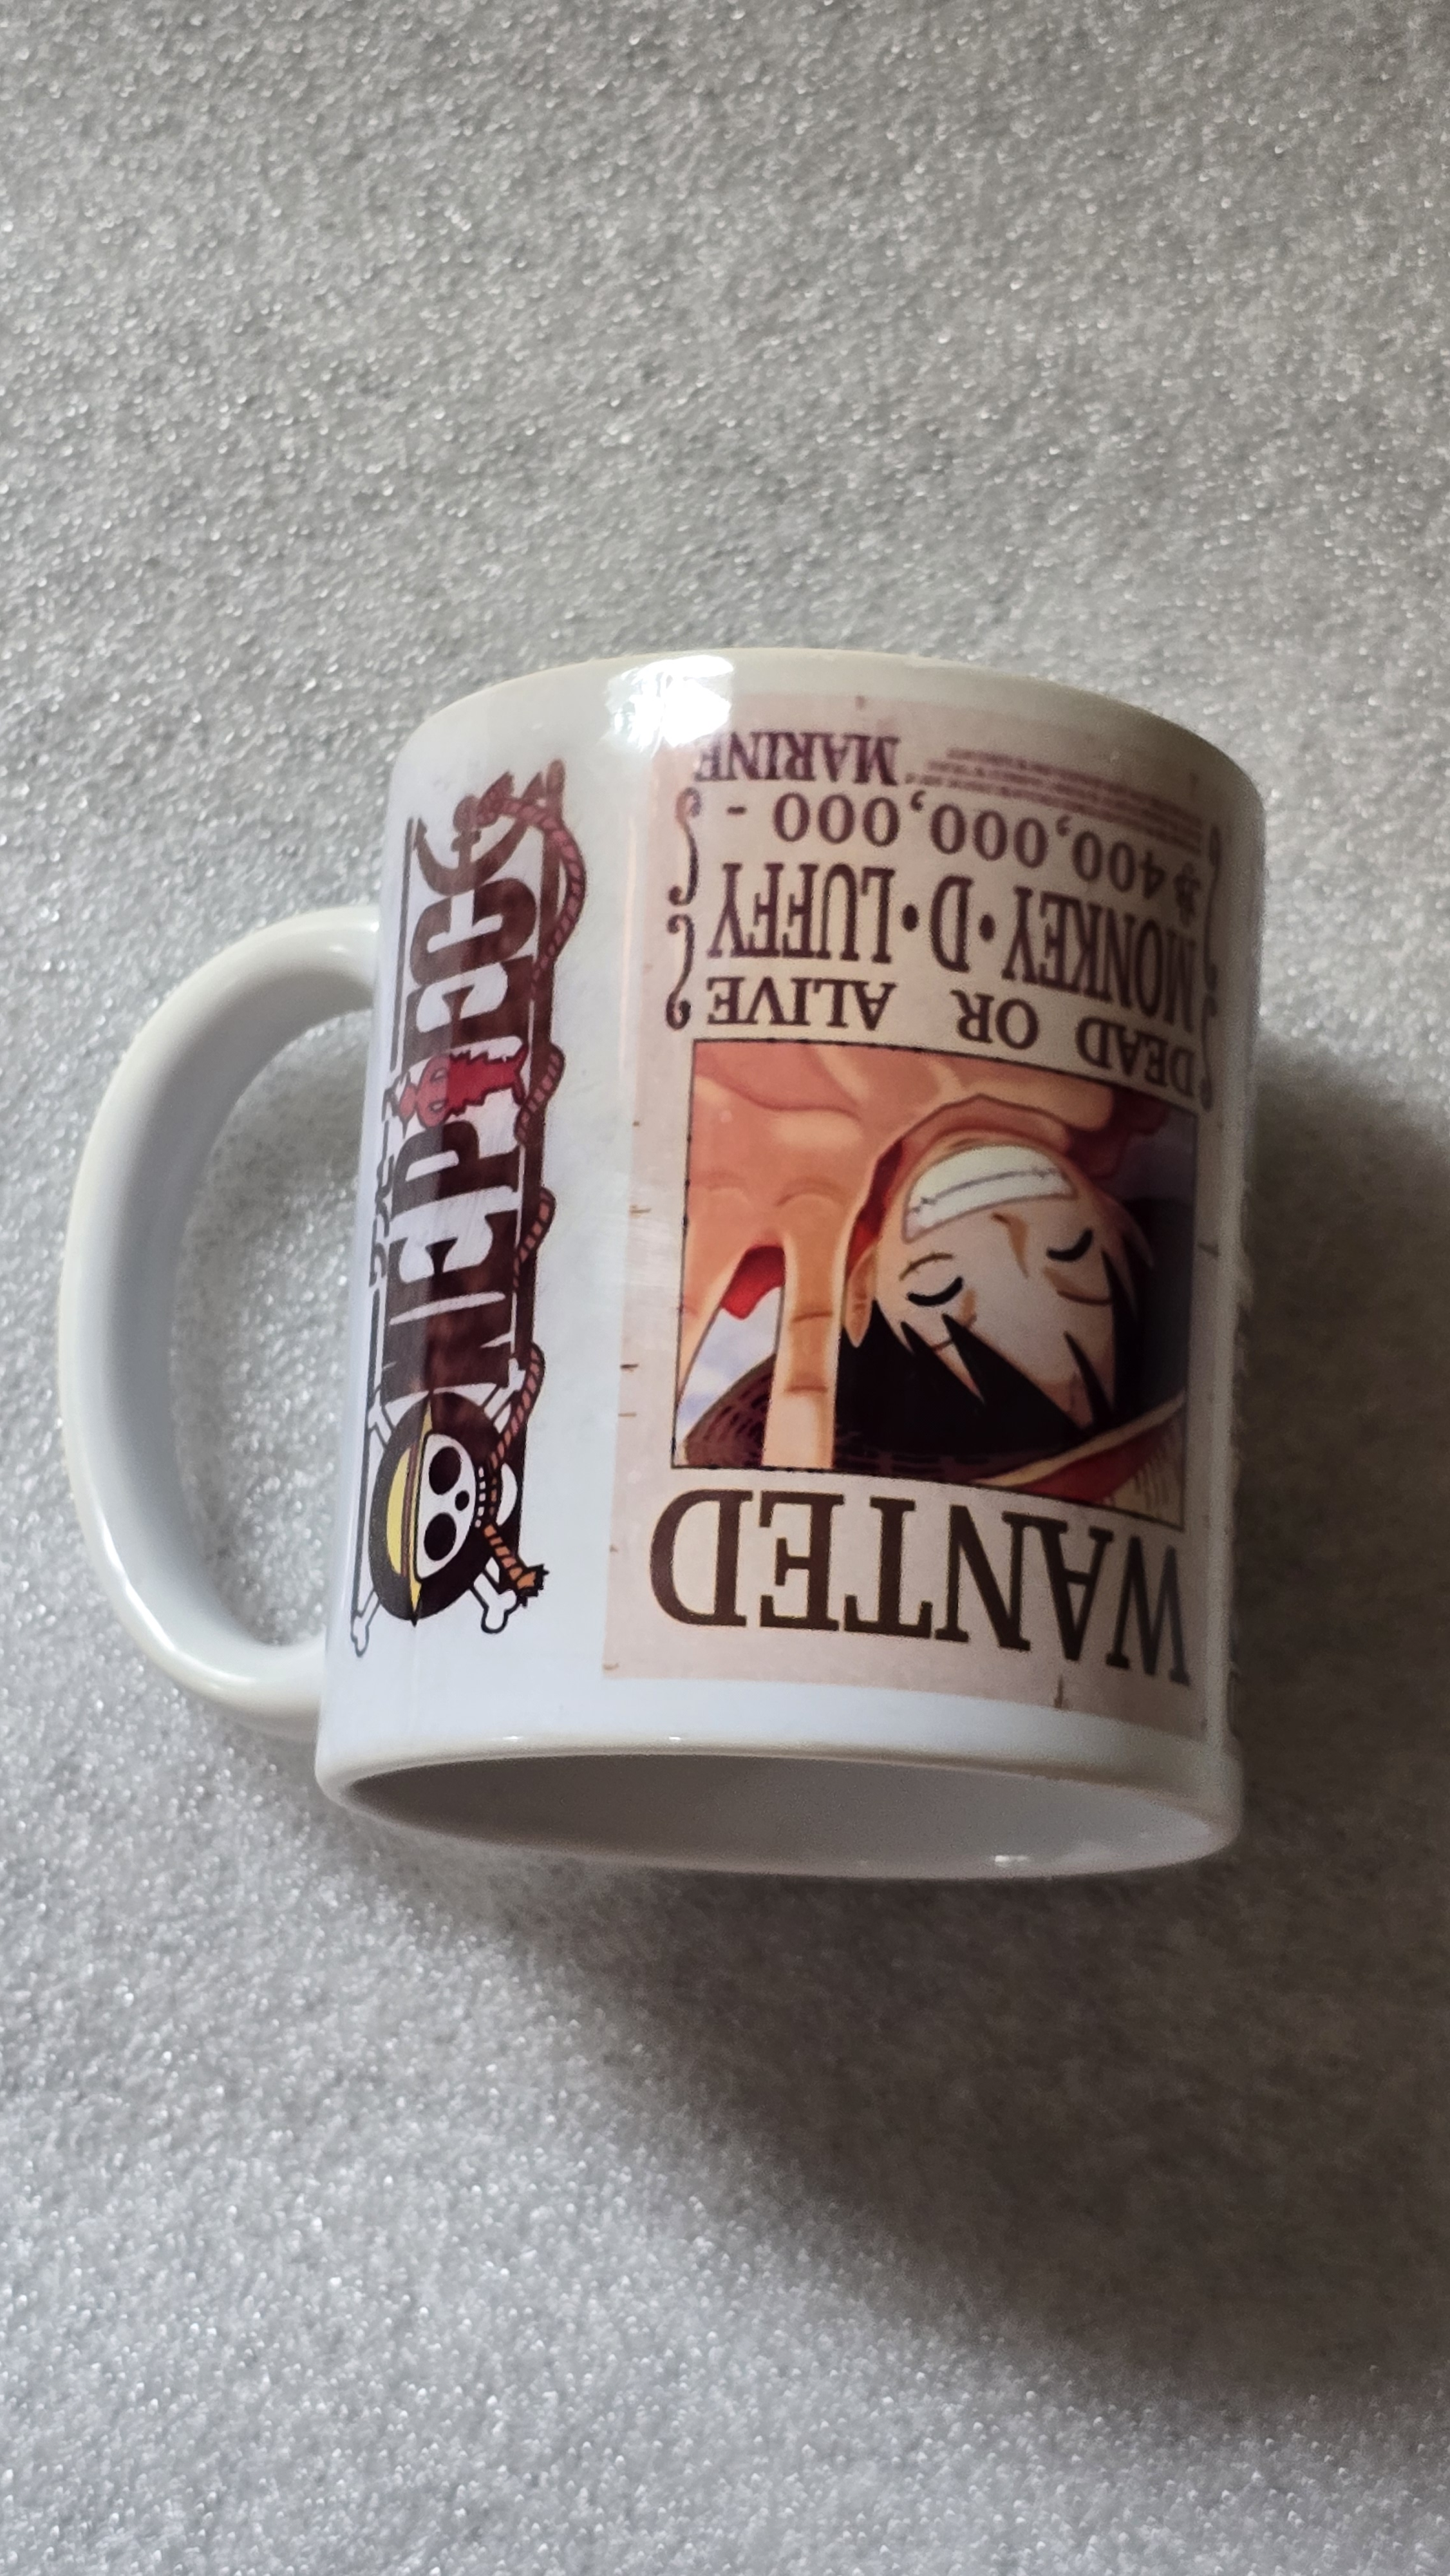mug: (51, 598, 1335, 1932)
